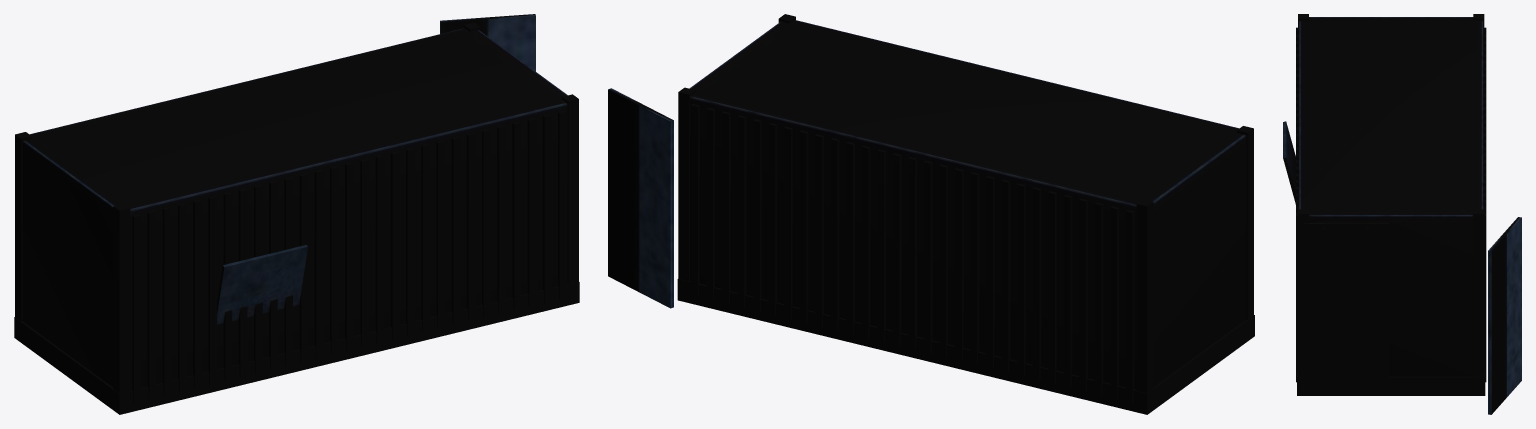
File: container_b.glb
3 renders of one model, left to right at view 1: azimuth 30°, elevation 25°; view 2: azimuth 150°, elevation 25°; view 3: azimuth 270°, elevation 25°, orthographic. The views are drawn at different scales.
Parts seen in each view (by area): view 1: container_b; view 2: container_b; view 3: container_b.
Part boxes in pixels (bbox=[...]): container_b: bbox=[14, 14, 579, 414]; container_b: bbox=[608, 14, 1254, 414]; container_b: bbox=[1283, 14, 1521, 414].
Bounding box in the file's own units: 6.9 × 2.56 × 3.05.
Materials: 1 (1 with a texture image).
